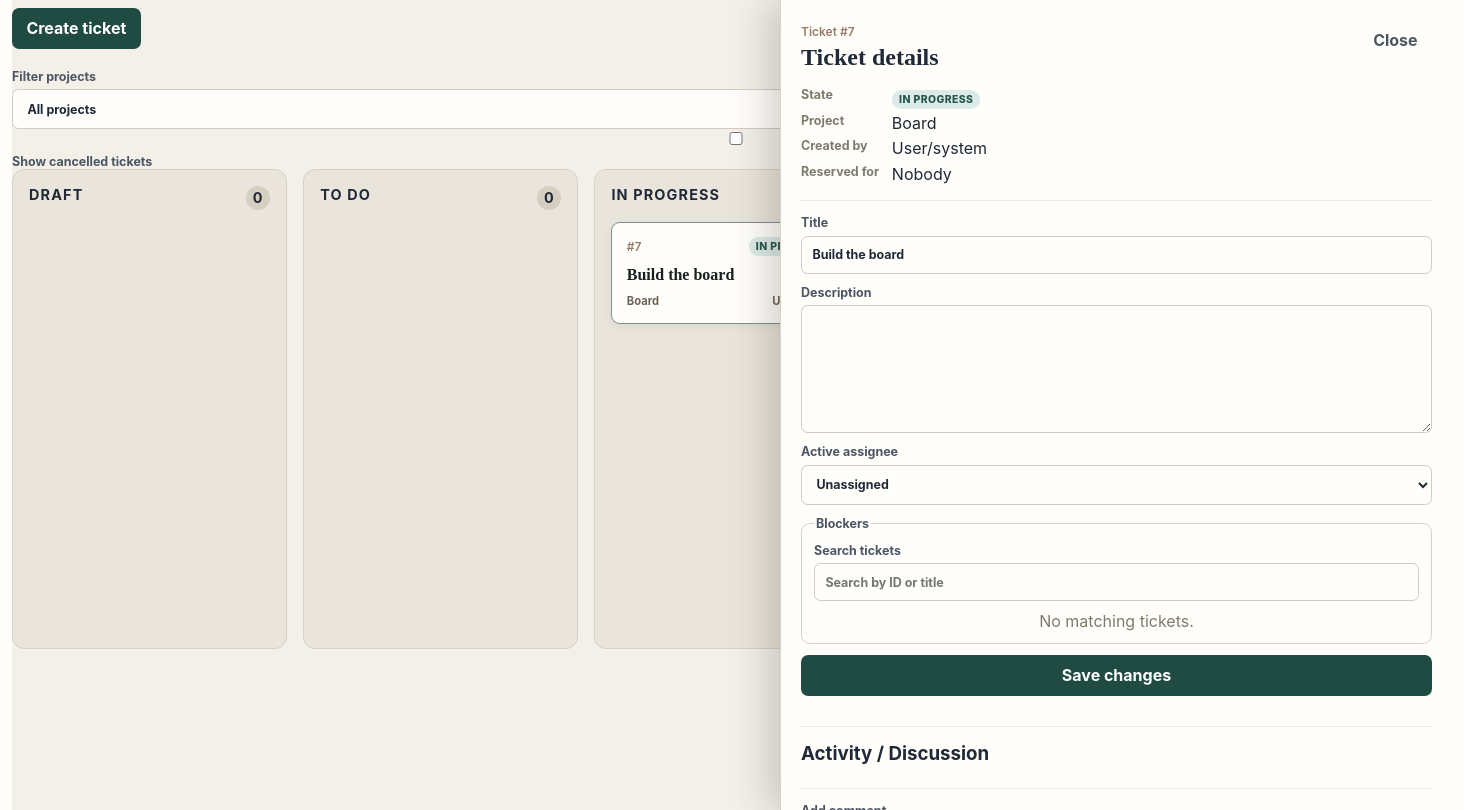
KanbanBoard › shows only the create editor while a selected ticket route remains open
Expected: the heading "Ticket details" is shown, [801,44,939,71]
Click the button "Create ticket" at (76, 28), box [12,8,141,49]
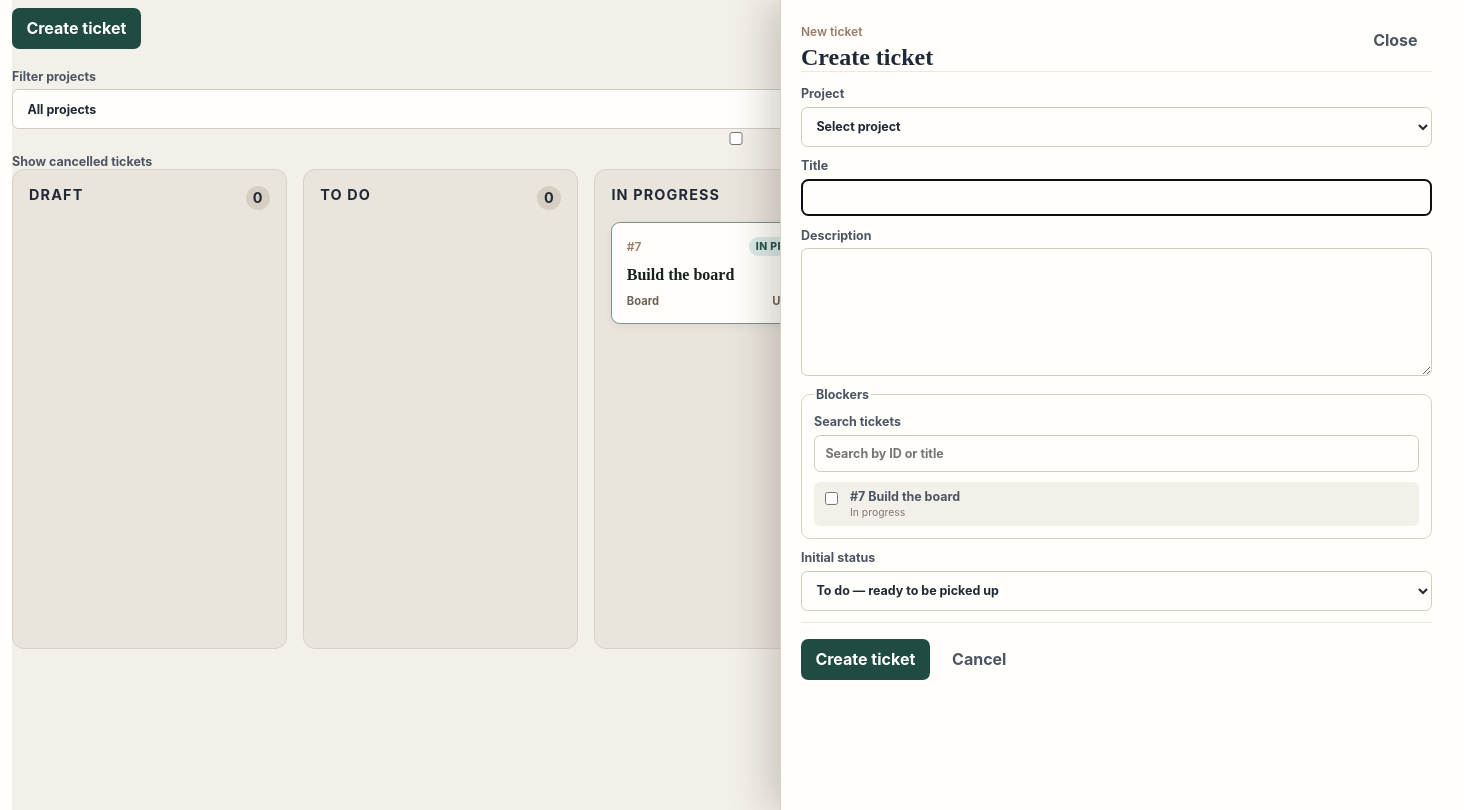
Expected: the number of elements with class "ticket-detail-panel" is 1, [780,0,1452,809]
Expected: the heading "Create ticket" is shown, [801,44,933,71]
Expected: the heading "Ticket details" is gone
Click the button "Close" at (1395, 40), box [1359,20,1432,61]
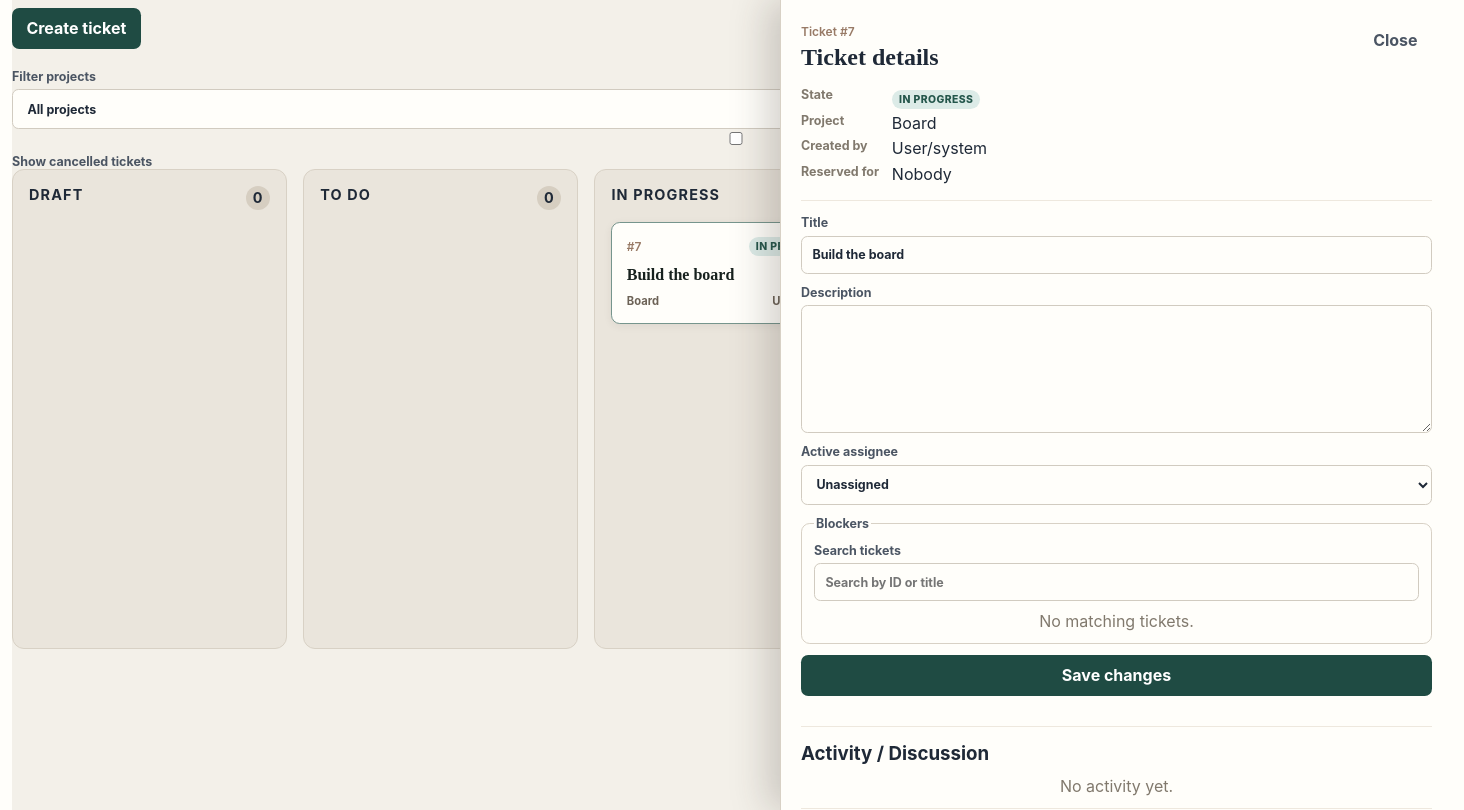
Expected: the heading "Ticket details" is shown, [801,44,939,71]
